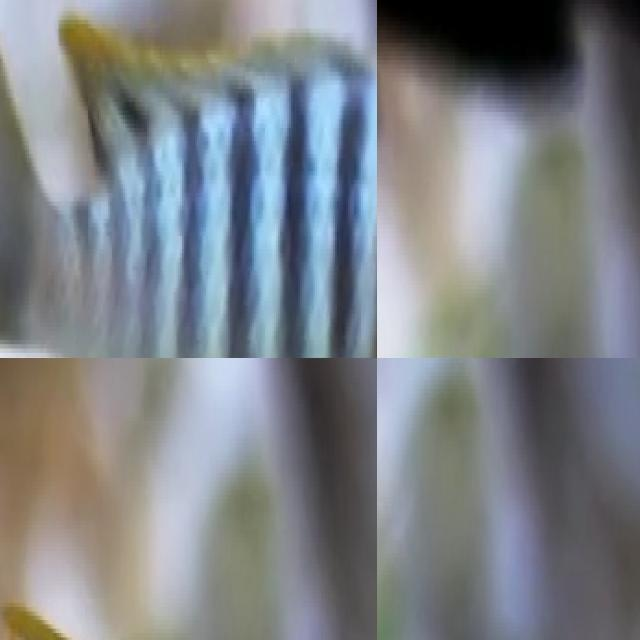fish: (0, 0, 377, 358), (377, 0, 640, 168), (0, 577, 377, 640)
